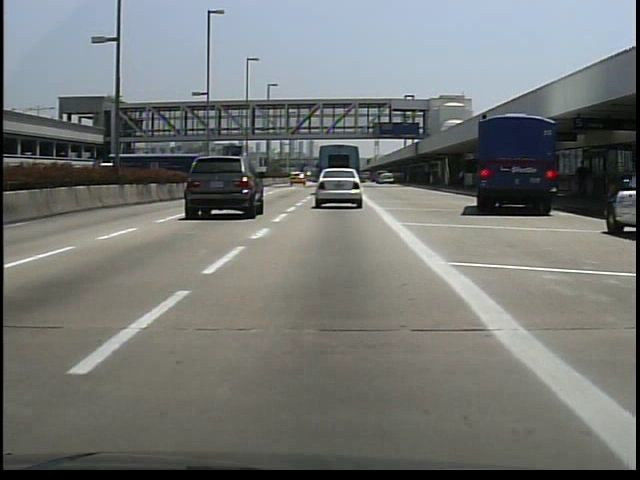person: (572, 155, 592, 209)
